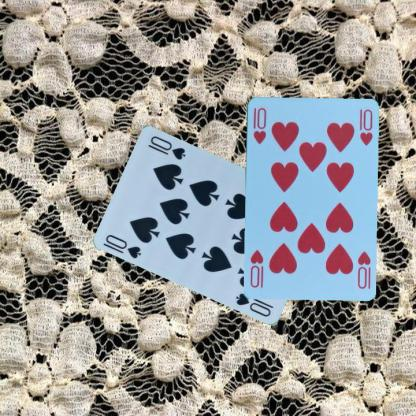10h: (354, 248, 372, 289), (250, 105, 268, 145)
10s: (104, 232, 144, 260)
